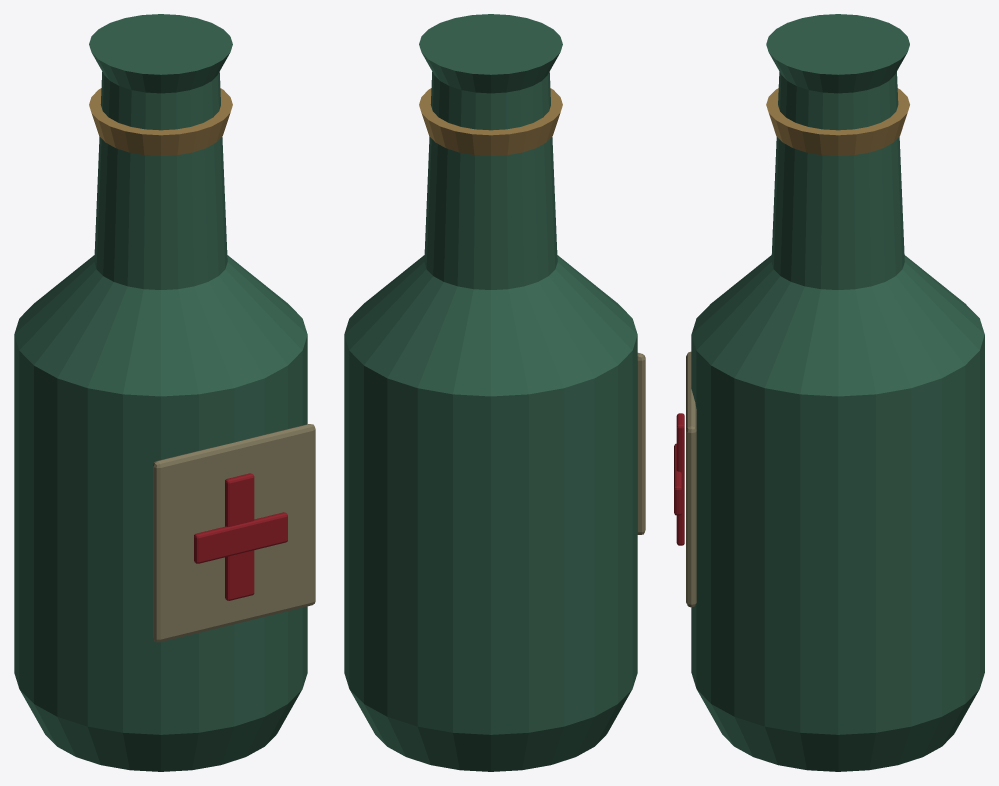
The model's file is BloodBottle.fbx.
The picture shows the model from 3 angles, left to right: view 1: azimuth 30°, elevation 25°; view 2: azimuth 150°, elevation 25°; view 3: azimuth 270°, elevation 25°; orthographic projection.
Parts seen in each view (by area): view 1: bottle, blood label, neck ring, cross bar, red cross; view 2: bottle, neck ring, blood label; view 3: bottle, neck ring, blood label, red cross.
Part boxes in pixels (x1,y1,x2,y2): bottle: (14, 14, 307, 771); blood label: (153, 424, 315, 642); neck ring: (89, 88, 232, 155); cross bar: (194, 512, 287, 563); red cross: (225, 473, 254, 600); bottle: (344, 14, 637, 771); neck ring: (419, 88, 562, 155); blood label: (637, 353, 645, 534); bottle: (691, 14, 984, 771); neck ring: (766, 88, 909, 155); blood label: (686, 351, 696, 607); red cross: (676, 413, 684, 545).
Size of the model in its own units: 11 by 28 by 11.65.
